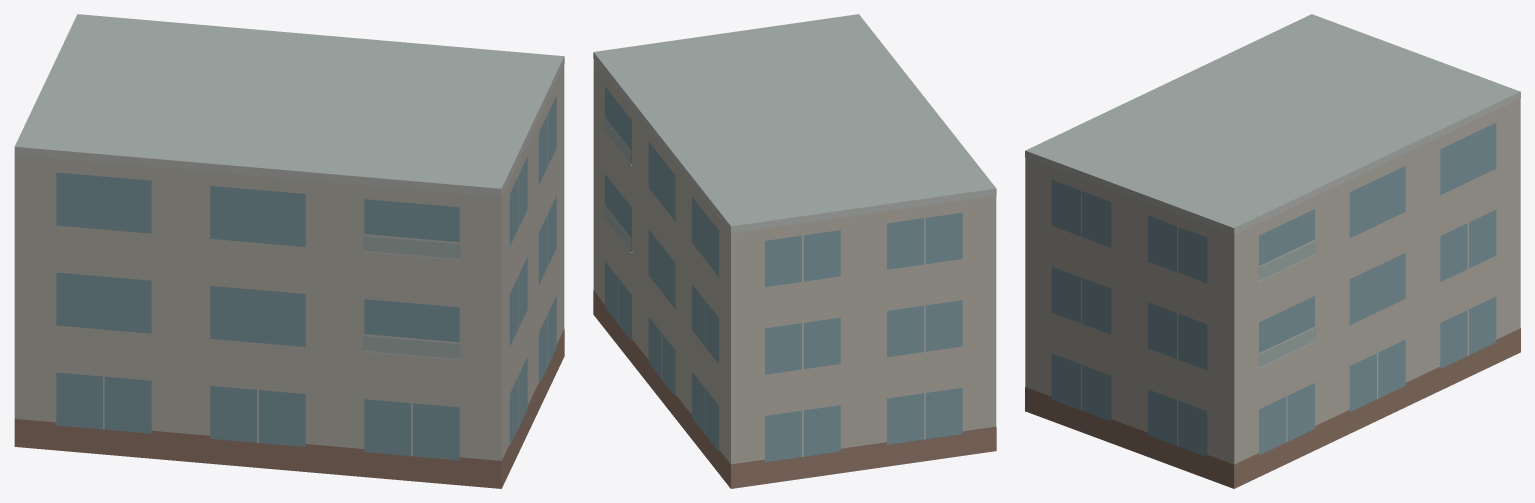
Rendered from survey-upis-32968730.glb.
3 renders of one model, left to right at view 1: azimuth 30°, elevation 25°; view 2: azimuth 150°, elevation 25°; view 3: azimuth 270°, elevation 25°, orthographic. The views are drawn at different scales.
Visible parts, largest first — view 1: survey-upis-32968730.tmp; view 2: survey-upis-32968730.tmp; view 3: survey-upis-32968730.tmp.
Part boxes in pixels (left/top/right/bottom): survey-upis-32968730.tmp: left=14, top=14, right=564, bottom=488; survey-upis-32968730.tmp: left=593, top=14, right=996, bottom=488; survey-upis-32968730.tmp: left=1025, top=14, right=1520, bottom=488.
Bounding box in the file's own units: 16.13 × 9.15 × 15.77.
